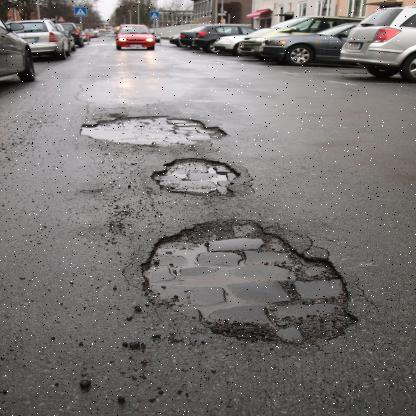pothole: (134, 215, 369, 342), (67, 108, 239, 154), (139, 154, 260, 209)
